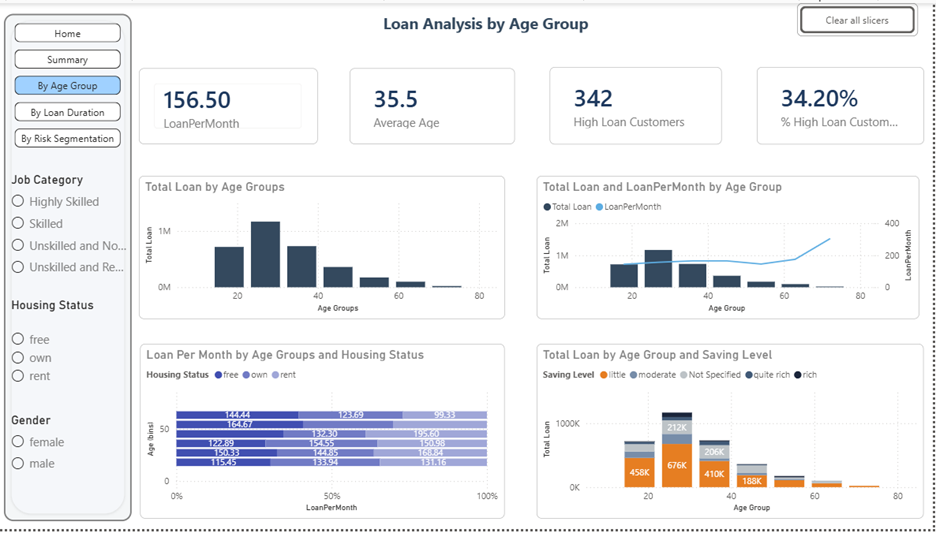

The dashboard page shown, as its layout file describes it:
{"tool":"powerbi","page":{"name":"By Age Group","canvas":[1280,720],"ordinal":2},"visuals":[{"type":"shape","box":[9.7,14.6,174.9,694.6],"z":0,"group":"g1"},{"type":"columnChart","fields":{"Y":["Sum(german_credit_data.Credit amount)"],"Category":["german_credit_data.Age (bins)"],"Series":["german_credit_data.Saving Level"]},"box":[738.4,466.3,529.5,239.6],"z":0},{"type":"pageNavigator","box":[24.3,27.6,145.7,173.3],"z":1000,"group":"g1"},{"type":"hundredPercentStackedBarChart","title":"Loan Per Month by Age Groups and Housing Status","fields":{"Category":["german_credit_data.Age (bins)"],"Y":["german_credit_data.LoanPerMonth"],"Series":["german_credit_data.Housing Status"]},"box":[195.9,466.3,498.7,239.6],"z":1000},{"type":"listSlicer","fields":{"Values":["german_credit_data.Housing Status"]},"box":[14.3,403.5,166.6,148.3],"z":2000,"group":"g1"},{"type":"listSlicer","fields":{"Values":["german_credit_data.Gender"]},"box":[14.3,560,168.6,134.1],"z":3000,"group":"g1"},{"type":"listSlicer","fields":{"Values":["german_credit_data.Job Category"]},"box":[14.3,230.8,170.7,186.9],"z":4000,"group":"g1"},{"type":"columnChart","fields":{"Y":["Sum(german_credit_data.Credit amount)"],"Category":["german_credit_data.Age (bins)"]},"box":[194.3,236.4,500.3,195.9],"z":5000},{"type":"cardVisual","fields":{"Data":["german_credit_data.% High Loan Customers"]},"box":[1039,86.8,229,105.8],"z":6000},{"type":"cardVisual","fields":{"Data":["german_credit_data.High Loan Customers"]},"box":[756.3,86.8,235.3,105.8],"z":7000},{"type":"cardVisual","fields":{"Data":["german_credit_data.LoanPerMonth"]},"box":[194.2,88.4,244.7,104.2],"z":8000},{"type":"cardVisual","fields":{"Data":["german_credit_data.Dynamic Age Display"]},"box":[483.2,88.4,225.8,104.2],"z":9000},{"type":"lineClusteredColumnComboChart","fields":{"Category":["german_credit_data.Age (bins)"],"Y":["Sum(german_credit_data.Credit amount)"],"Y2":["german_credit_data.LoanPerMonth"]},"box":[738.4,236.4,523,195.9],"z":10000},{"type":"textbox","box":[297.9,6.5,741.6,38.9],"z":12000},{"type":"group","id":"g1","title":"Group 1","box":[9.7,14.6,175.3,694.6],"z":12001},{"type":"actionButton","box":[1094.6,0,165.2,45.3],"z":12002}]}

Visuals, with their boxes in screenshot pixels (x1, y1, x2, y2), scaled from the page's 1280x720 canvas onto the 936x533 screenshot:
shape: x1=7, y1=11, x2=135, y2=525
columnChart - Sum(german_credit_data.Credit amount) x german_credit_data.Age (bins): x1=540, y1=345, x2=927, y2=523
pageNavigator: x1=18, y1=20, x2=124, y2=149
"Loan Per Month by Age Groups and Housing Status" hundredPercentStackedBarChart: x1=143, y1=345, x2=508, y2=523
listSlicer - german_credit_data.Housing Status: x1=10, y1=299, x2=132, y2=408
listSlicer - german_credit_data.Gender: x1=10, y1=415, x2=134, y2=514
listSlicer - german_credit_data.Job Category: x1=10, y1=171, x2=135, y2=309
columnChart - Sum(german_credit_data.Credit amount) x german_credit_data.Age (bins): x1=142, y1=175, x2=508, y2=320
cardVisual - german_credit_data.% High Loan Customers: x1=760, y1=64, x2=927, y2=143
cardVisual - german_credit_data.High Loan Customers: x1=553, y1=64, x2=725, y2=143
cardVisual - german_credit_data.LoanPerMonth: x1=142, y1=65, x2=321, y2=143
cardVisual - german_credit_data.Dynamic Age Display: x1=353, y1=65, x2=518, y2=143
lineClusteredColumnComboChart - german_credit_data.Age (bins) x Sum(german_credit_data.Credit amount): x1=540, y1=175, x2=922, y2=320
textbox: x1=218, y1=5, x2=760, y2=34
"Group 1" group: x1=7, y1=11, x2=135, y2=525
actionButton: x1=800, y1=0, x2=921, y2=34
